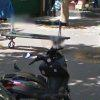Motorcycle: (2, 44, 90, 100)
